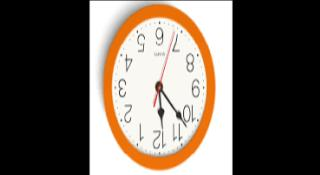Circle: (100, 2, 218, 171)
